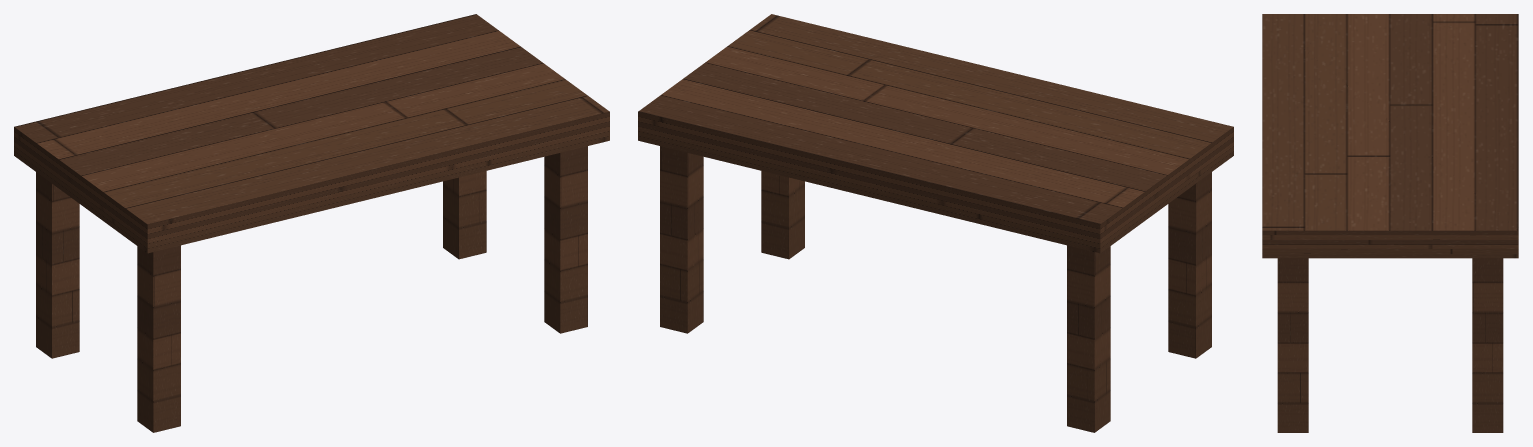
Rendered from coffee-table.glb.
3 renders of one model, left to right at view 1: azimuth 30°, elevation 25°; view 2: azimuth 150°, elevation 25°; view 3: azimuth 270°, elevation 25°, orthographic. The views are drawn at different scales.
Visible parts, largest first — view 1: coffee-table; view 2: coffee-table; view 3: coffee-table.
Boxes of the visible parts, bbox=[...] form: coffee-table: bbox=[14, 14, 609, 432]; coffee-table: bbox=[638, 14, 1233, 432]; coffee-table: bbox=[1262, 14, 1518, 432].
Size of the model in its own units: 1 by 0.45 by 0.5.
Materials: 5 (5 with a texture image).
